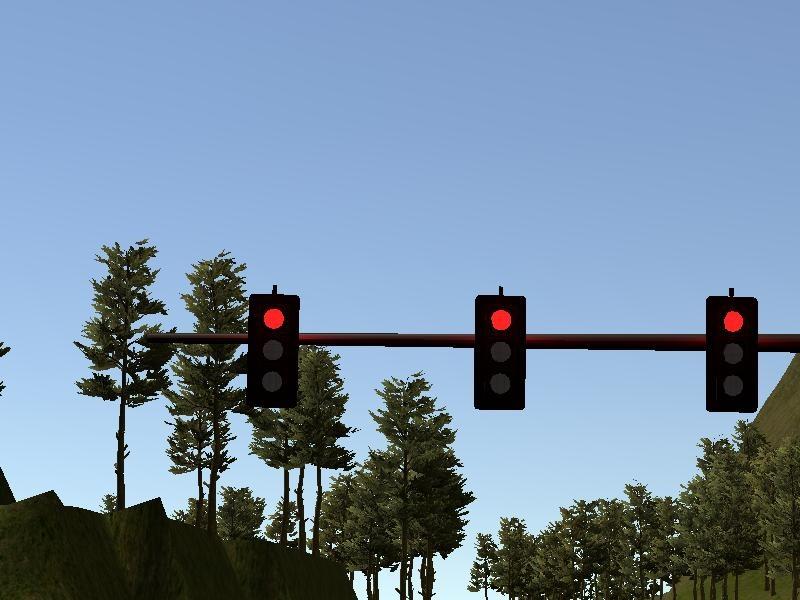Red: (702, 293, 762, 414), (471, 293, 529, 413), (245, 292, 299, 408)
